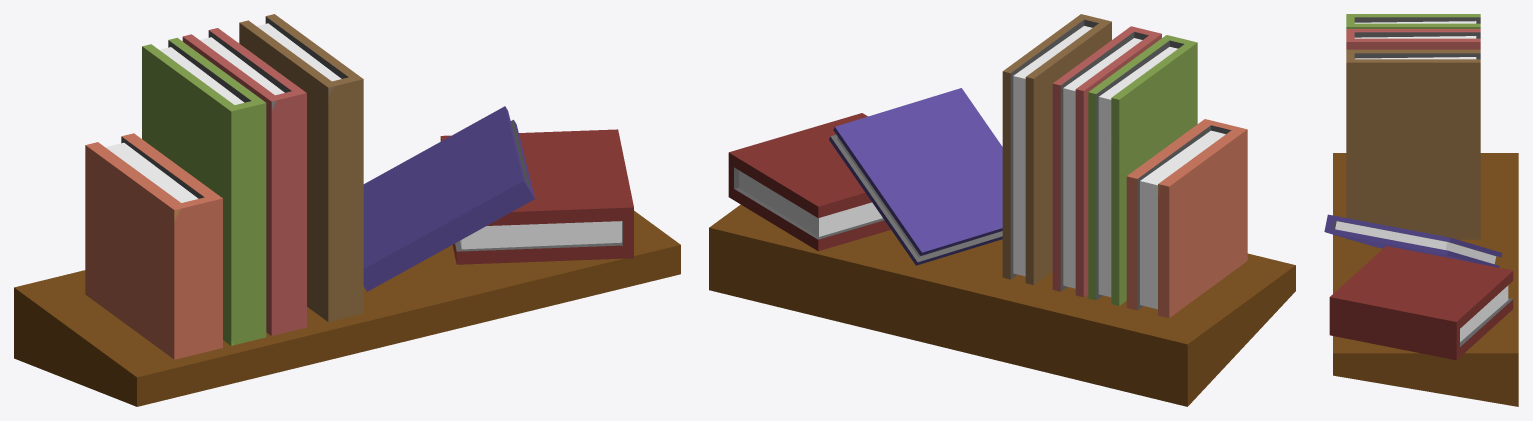
Rendered from sm_BookShelf1.fbx.
3 views of the same model, side by side, from view 1: azimuth 30°, elevation 25°; view 2: azimuth 150°, elevation 25°; view 3: azimuth 270°, elevation 25° (orthographic). The views are drawn at different scales.
Visible parts, largest first — view 1: Cube.043, Cube.045, Cube.048, Cube.029, Cube.044, Cube.047, Cube.049; view 2: Cube.043, Cube.044, Cube.045, Cube.048, Cube.029, Cube.047, Cube.049; view 3: Cube.029, Cube.043, Cube.047, Cube.044, Cube.049, Cube.048.
Boxes of the visible parts, x1,y1,x2,y2 form: Cube.043: (14, 210, 680, 406); Cube.045: (85, 133, 222, 359); Cube.048: (142, 37, 266, 345); Cube.029: (239, 14, 363, 321); Cube.044: (363, 106, 534, 291); Cube.047: (440, 129, 633, 264); Cube.049: (182, 28, 306, 335); Cube.043: (709, 204, 1295, 406); Cube.044: (829, 88, 1002, 265); Cube.045: (1126, 119, 1247, 317); Cube.048: (1088, 35, 1197, 305); Cube.029: (1002, 14, 1111, 285); Cube.047: (728, 113, 890, 251); Cube.049: (1052, 26, 1161, 297); Cube.029: (1346, 49, 1480, 239); Cube.043: (1333, 153, 1518, 406); Cube.047: (1329, 246, 1513, 360); Cube.044: (1324, 214, 1502, 267); Cube.049: (1346, 29, 1480, 49); Cube.048: (1346, 14, 1480, 28).
Bounding box in the file's own units: 86.38 × 44.8 × 34.22.
